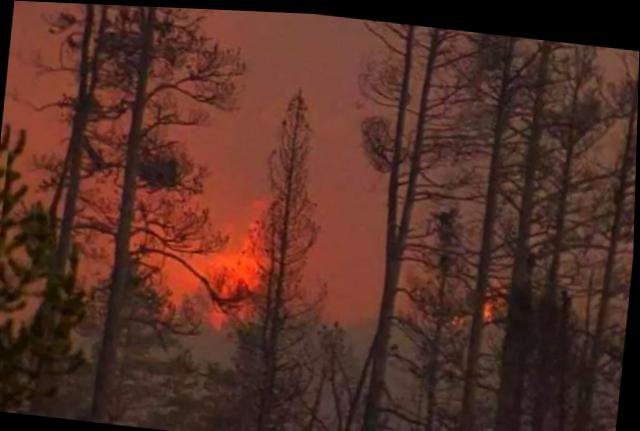fire: (163, 194, 277, 335), (487, 276, 512, 319)
